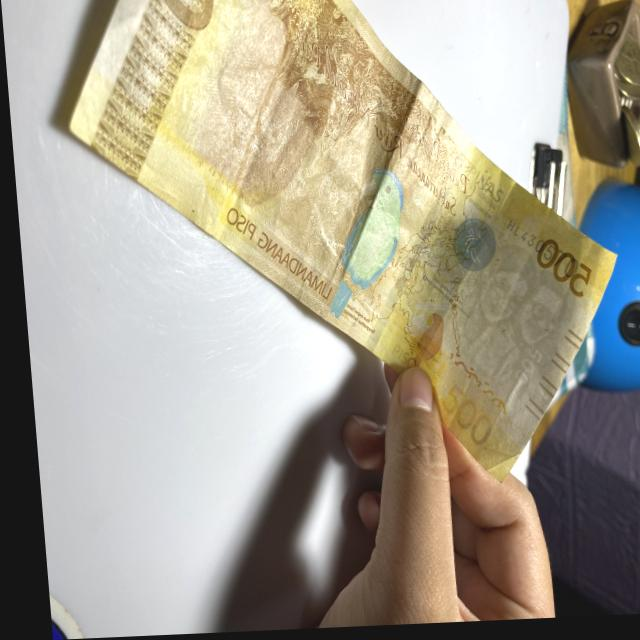500_big_parrot: (312, 173, 407, 318)
500_parrot_watermark: (396, 310, 442, 372)
value_watermark: (503, 347, 540, 394)
watermark: (448, 243, 565, 383)
